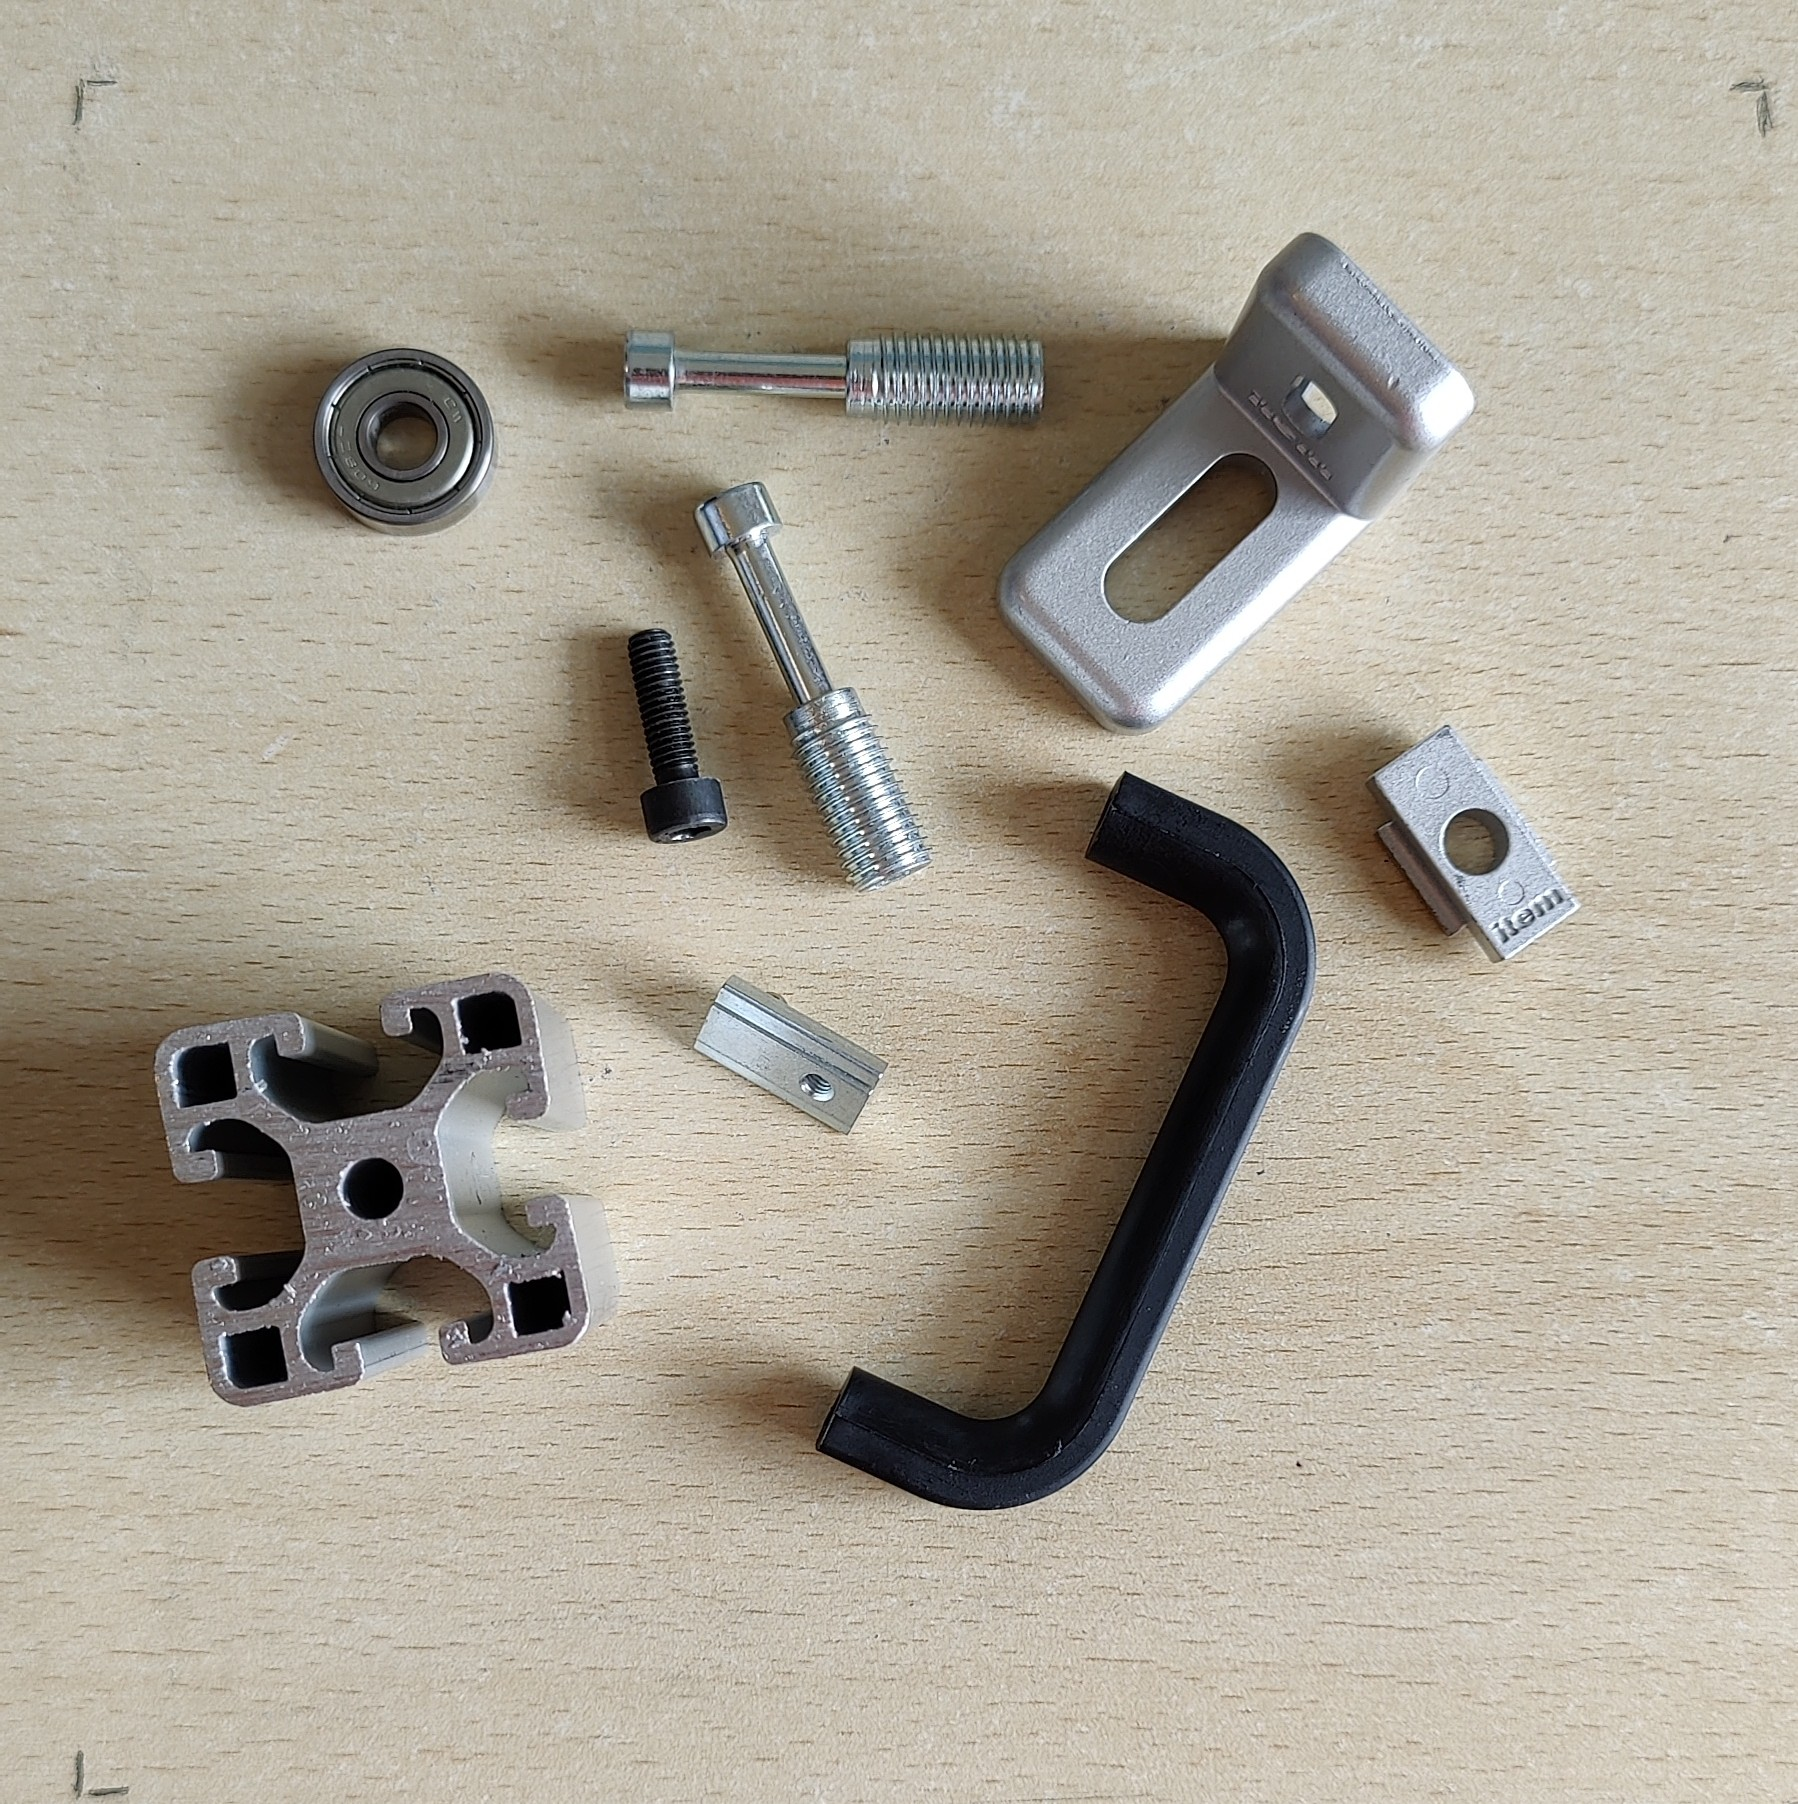Aluminium Extension: (151, 968, 622, 1411)
Ball Bearing: (310, 344, 499, 538)
Multiwinkel: (994, 229, 1475, 737)
Pull Handle: (810, 770, 1321, 1514)
Shoulder Socket Head Cap Screw: (692, 477, 935, 897), (619, 323, 1047, 431)
Socket Head Cap Screw: (624, 625, 733, 844)
T Nut Square: (1363, 723, 1586, 966)
T Spring Nut: (688, 973, 892, 1141)
